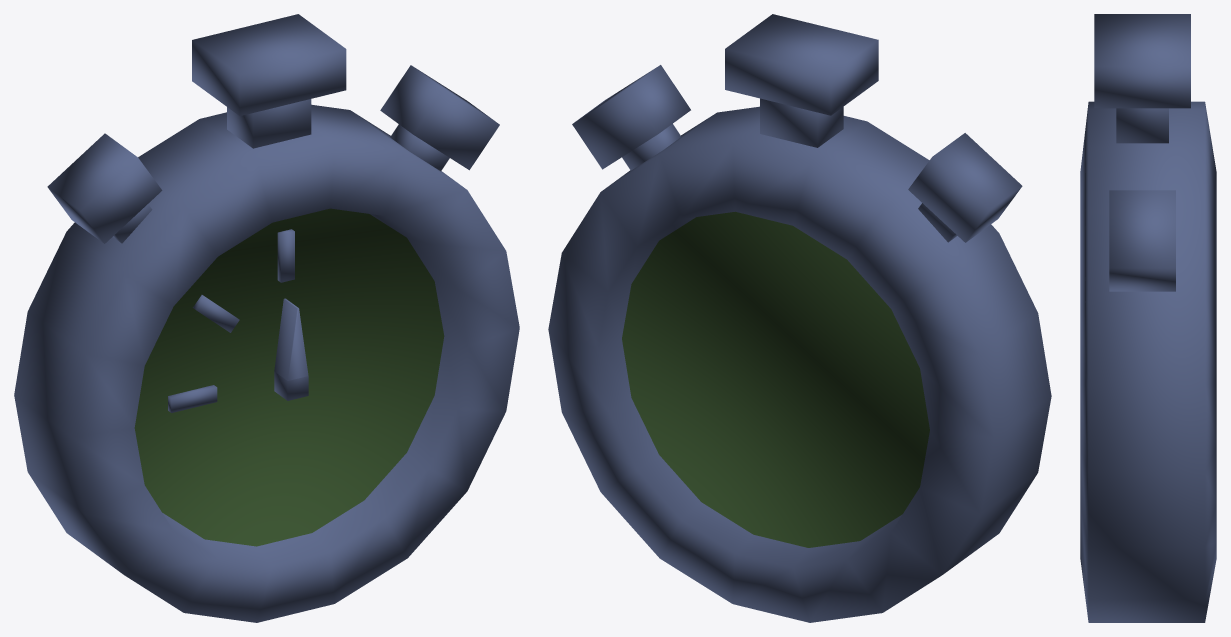
Rendered from Cronometro.FBX.
3 renders of one model, left to right at view 1: azimuth 30°, elevation 25°; view 2: azimuth 150°, elevation 25°; view 3: azimuth 270°, elevation 25°, orthographic.
Visible parts, largest first — view 1: Cronometro; view 2: Cronometro; view 3: Cronometro.
Part boxes in pixels (bbox=[...]): Cronometro: bbox=[14, 14, 519, 622]; Cronometro: bbox=[548, 14, 1051, 622]; Cronometro: bbox=[1080, 14, 1216, 622].
Bounding box in the file's own units: 5.71 × 1.48 × 6.69.
